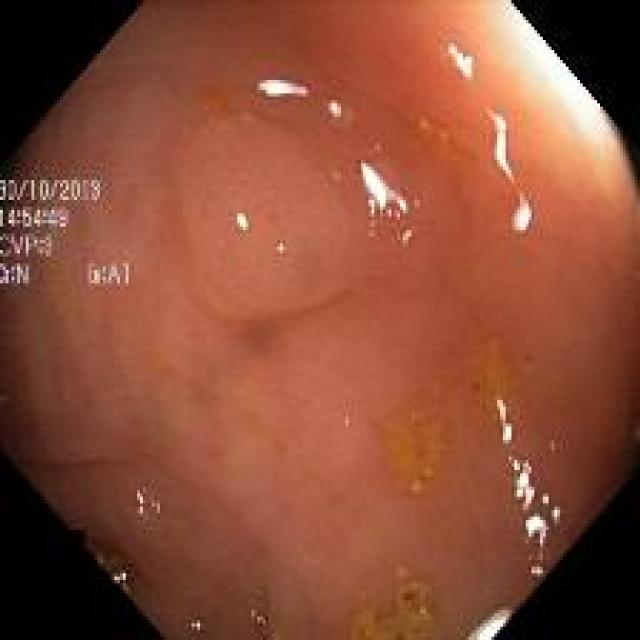Polyps: (180, 115, 362, 320)
